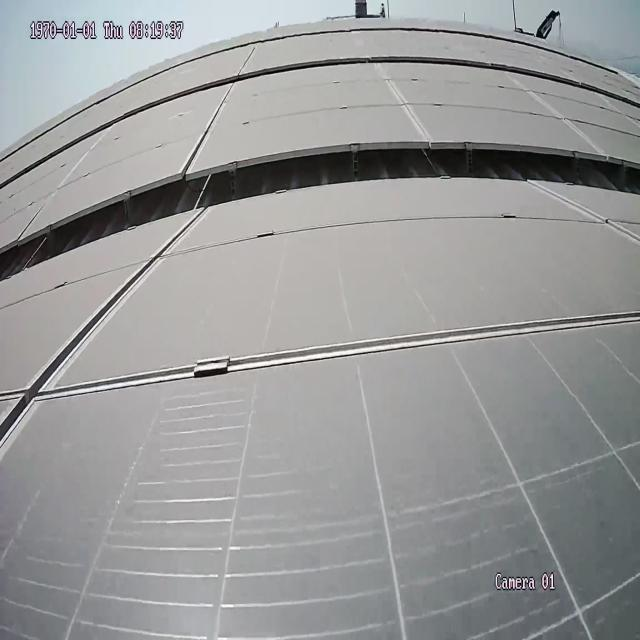interior panel: (0, 225, 637, 456), (509, 77, 613, 153), (184, 91, 235, 159), (379, 68, 431, 132)
outher panel: (0, 141, 638, 285)
